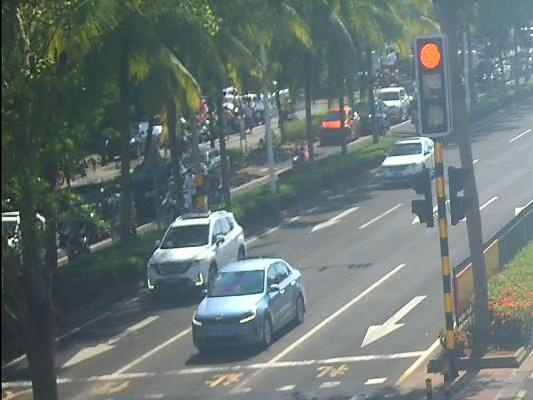red: (416, 44, 444, 69)
